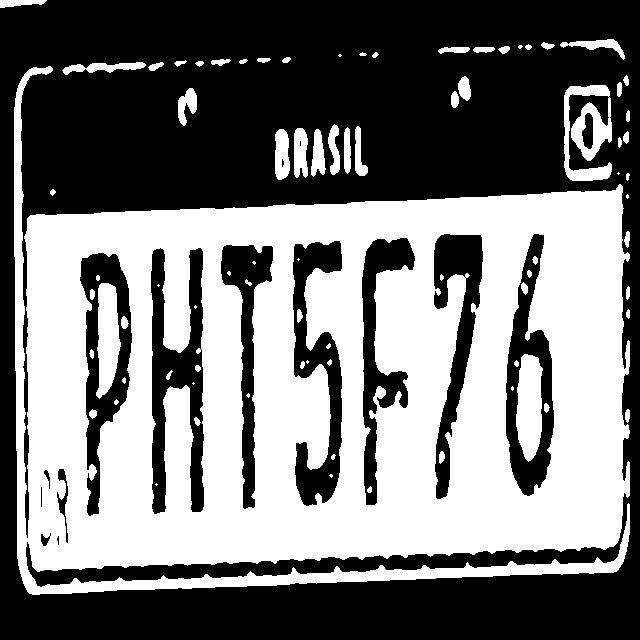5: (274, 226, 342, 514)
6: (498, 208, 566, 494)
7: (422, 216, 489, 514)
f: (352, 228, 420, 519)
h: (138, 229, 218, 522)
p: (76, 235, 138, 531)
t: (219, 228, 281, 524)
